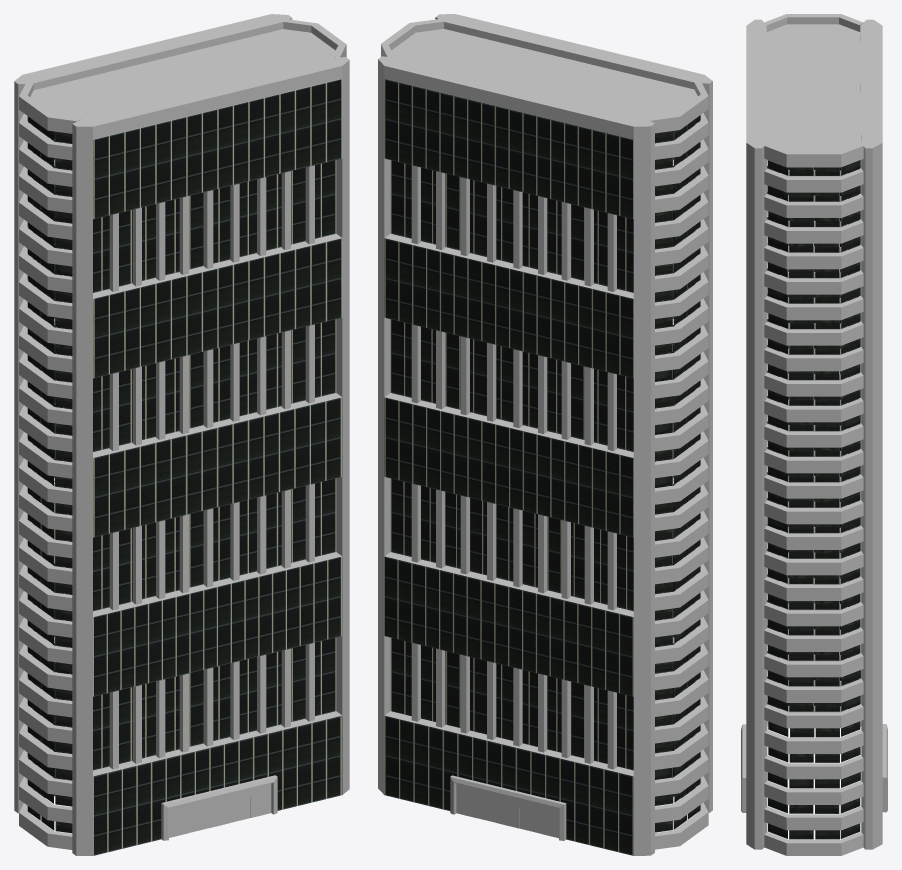
3 views of the same model, side by side, from view 1: azimuth 30°, elevation 25°; view 2: azimuth 150°, elevation 25°; view 3: azimuth 270°, elevation 25° (orthographic). The views are drawn at different scales.
Parts seen in each view (by area): view 1: BC-083; view 2: BC-083; view 3: BC-083.
Part boxes in pixels (x1=…): BC-083: x1=14, y1=14, x2=349, y2=855; BC-083: x1=378, y1=14, x2=712, y2=855; BC-083: x1=741, y1=14, x2=887, y2=855.
Size of what is drawn, in the model's own units: 39 by 90.89 by 17.22.
